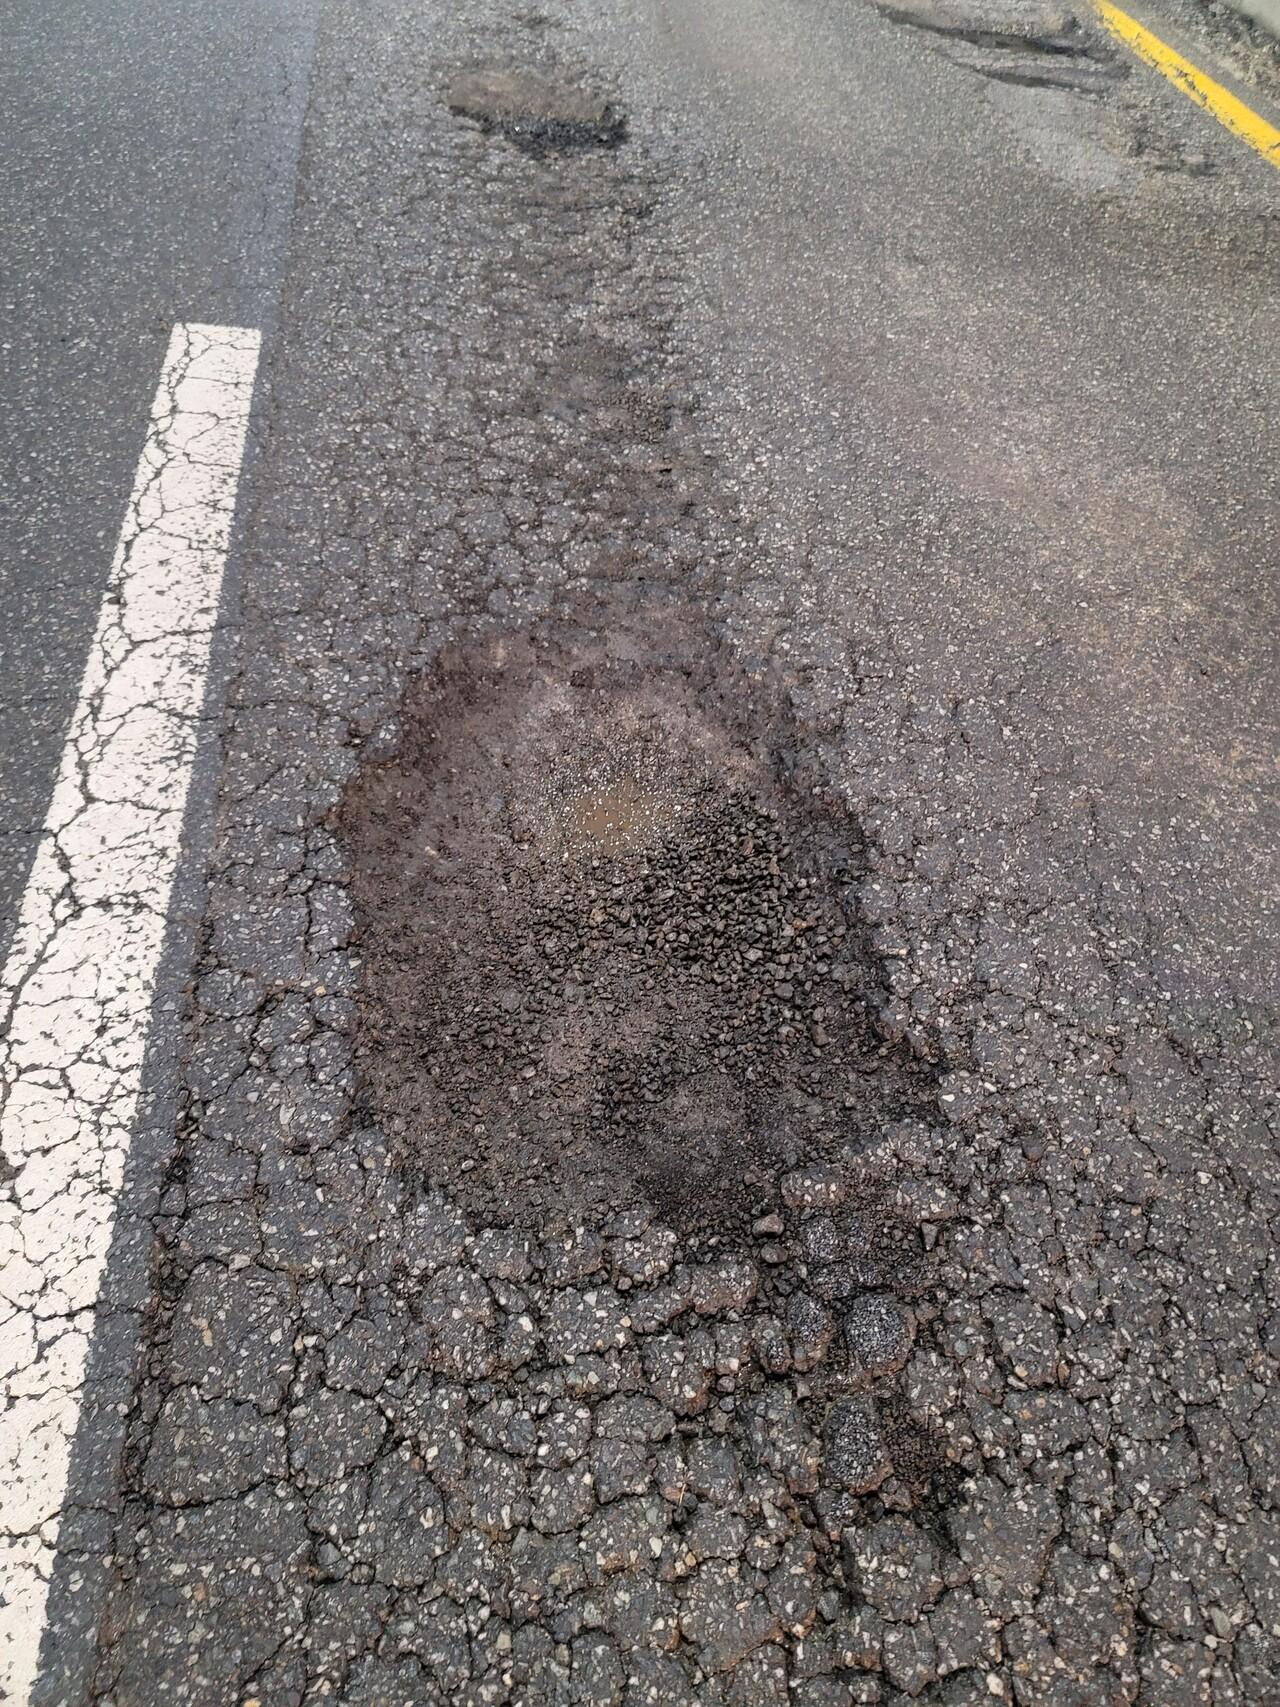pothole: (294, 497, 1042, 1590), (438, 44, 640, 176)
